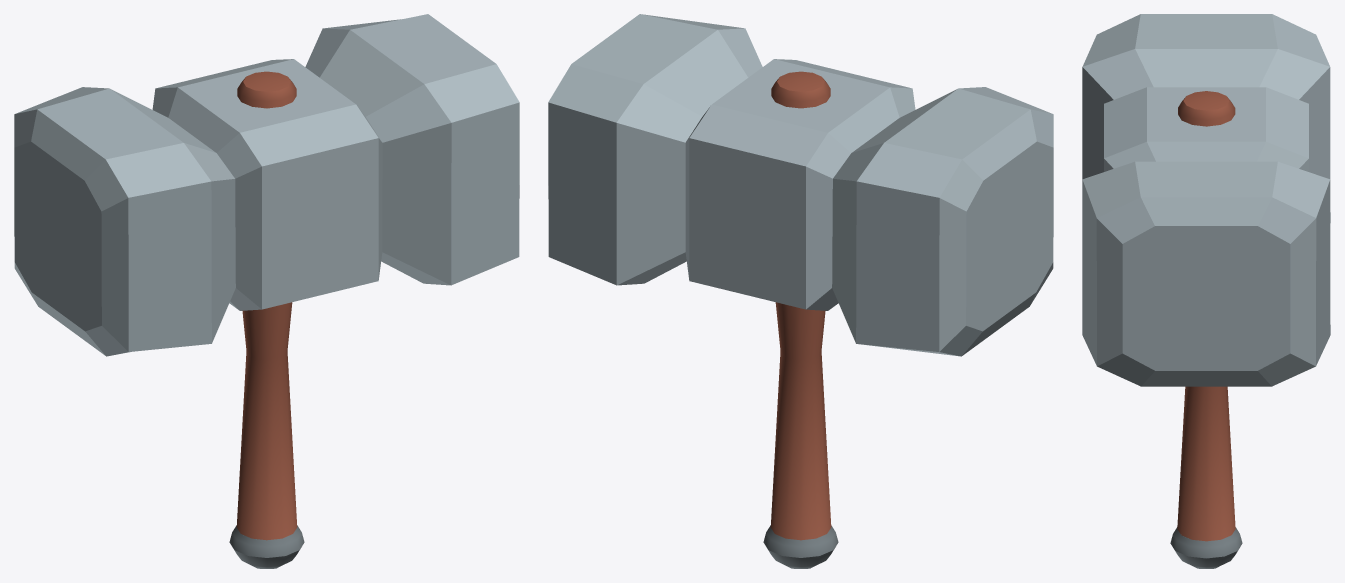
3 renders of one model, left to right at view 1: azimuth 30°, elevation 25°; view 2: azimuth 150°, elevation 25°; view 3: azimuth 270°, elevation 25°, orthographic. The views are drawn at different scales.
Parts seen in each view (by area): view 1: hammer_uncommon; view 2: hammer_uncommon; view 3: hammer_uncommon.
Boxes of the visible parts, <box> form: hammer_uncommon: <box>14,14,519,568</box>; hammer_uncommon: <box>548,14,1053,568</box>; hammer_uncommon: <box>1082,14,1330,568</box>.
Bounding box in the file's own units: 0.7876 × 0.8701 × 0.4209.
